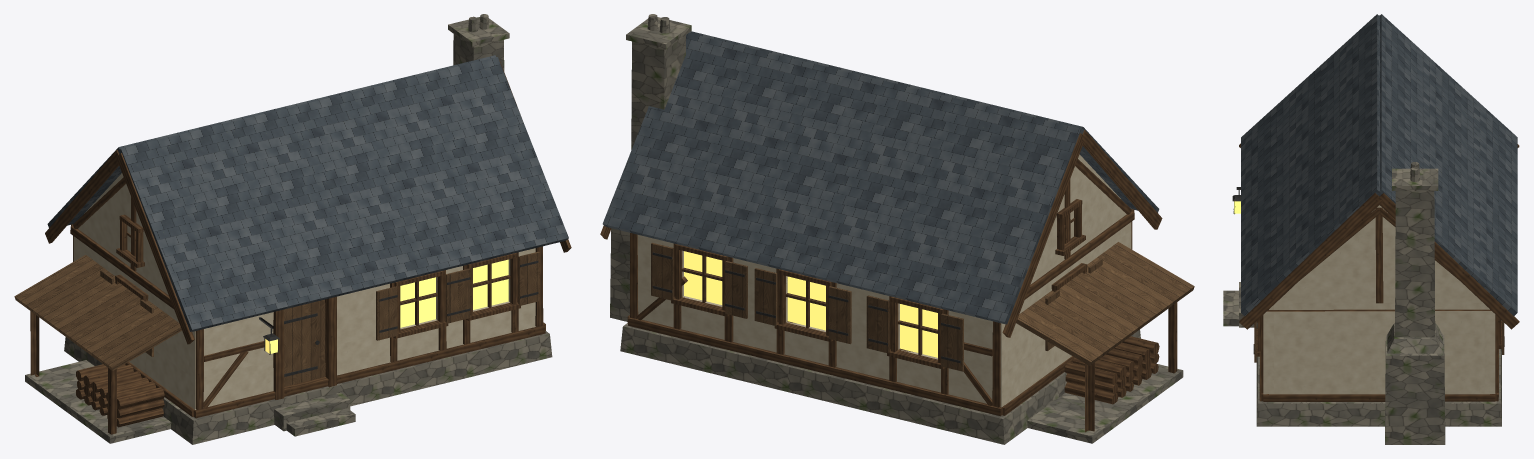
The model's file is Cottage_B.fbx.
The picture shows the model from 3 angles, left to right: view 1: azimuth 30°, elevation 25°; view 2: azimuth 150°, elevation 25°; view 3: azimuth 270°, elevation 25°; orthographic projection. The views are drawn at different scales.
Parts seen in each view (by area): view 1: Cottage_B; view 2: Cottage_B; view 3: Cottage_B.
Boxes of the visible parts, left/top/right/bottom form: Cottage_B: left=14, top=14, right=571, bottom=444; Cottage_B: left=600, top=14, right=1194, bottom=444; Cottage_B: left=1223, top=14, right=1519, bottom=444.
Bounding box in the file's own units: 11.49 × 6.55 × 6.65.
